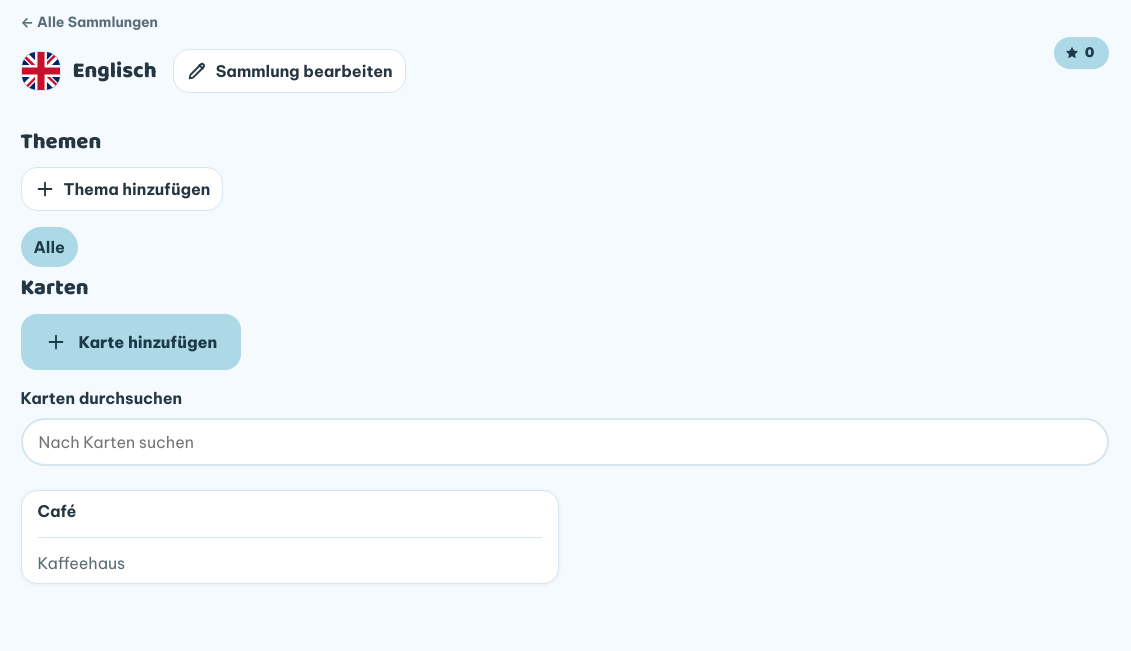
Test: rendered app journeys › finds Cards by either side while preserving diacritics
Check: the text "Café" is shown, box [38,499,76,523]
Step 1. Type "kaffee" into the search field labelled "Karten durchsuchen" → (564, 442), box [20,418,1108,466]
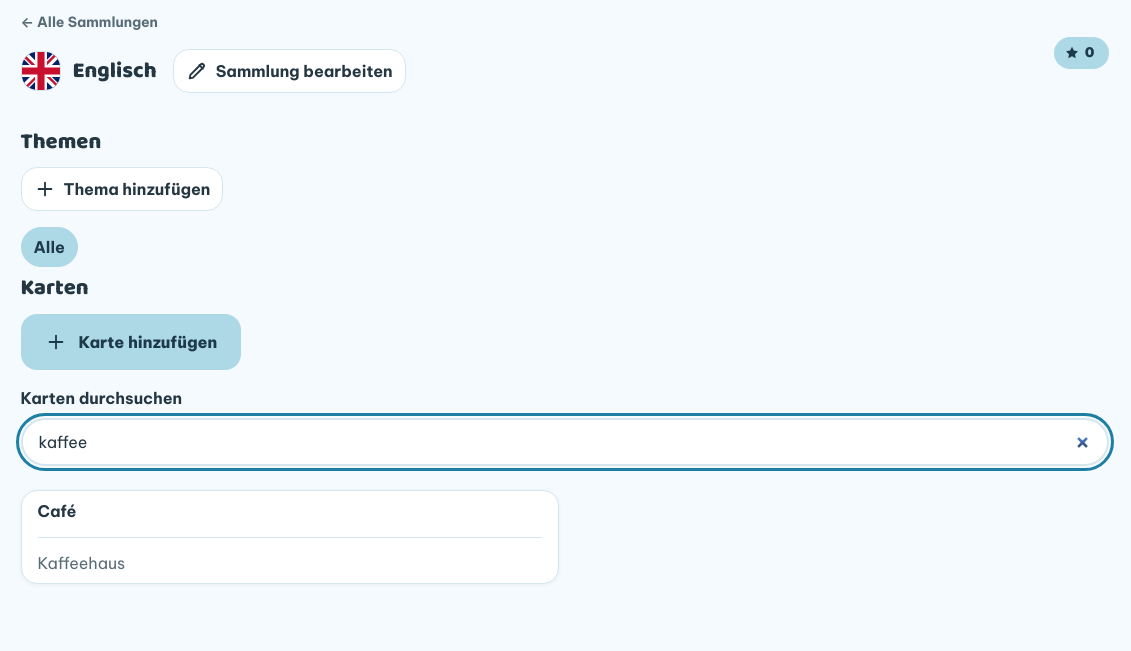
Check: the text "Café" is shown, box [38,499,76,523]
Step 2. Replace the text in the search field labelled "Karten durchsuchen" with "café" → (564, 442), box [20,418,1108,466]
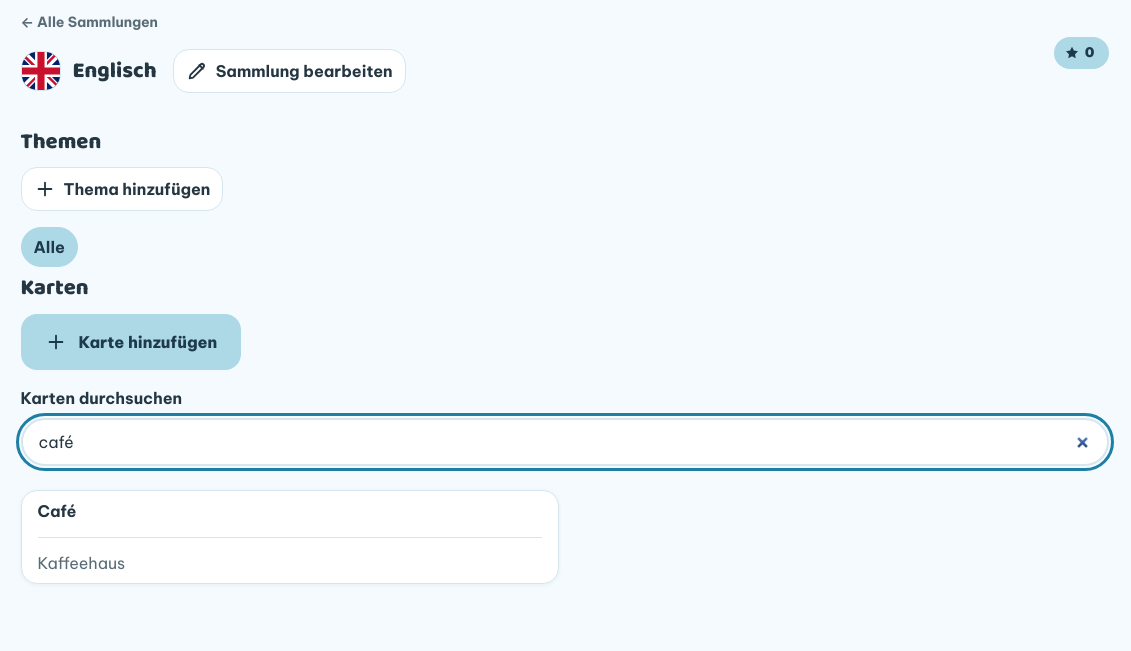
Check: the text "Kaffeehaus" is shown, box [38,553,125,573]
Step 3. Replace the text in the search field labelled "Karten durchsuchen" with "Cafe" → (564, 442), box [20,418,1108,466]
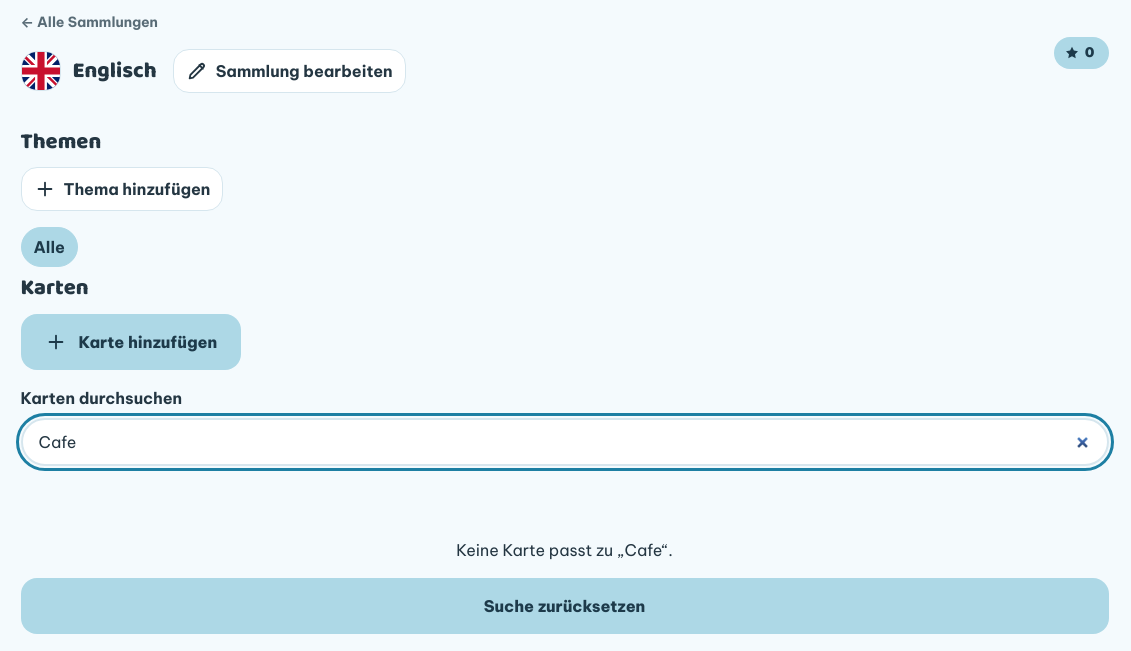
Check: the text "Keine Karte passt zu „Cafe“." is shown, box [456,540,673,560]
